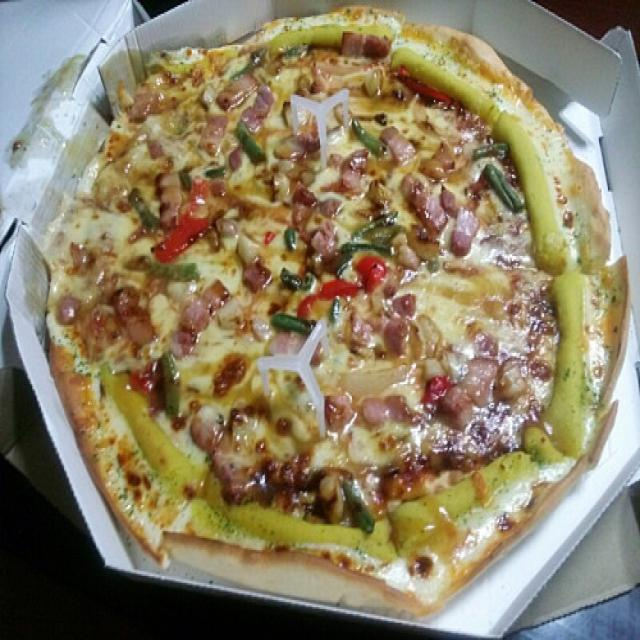Wet Waste: (48, 3, 632, 627)
